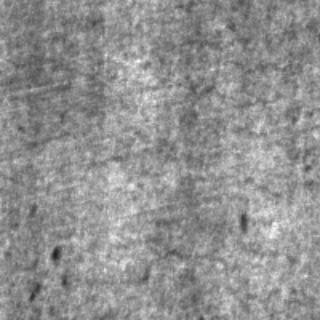crazing: (82, 236, 296, 312)
